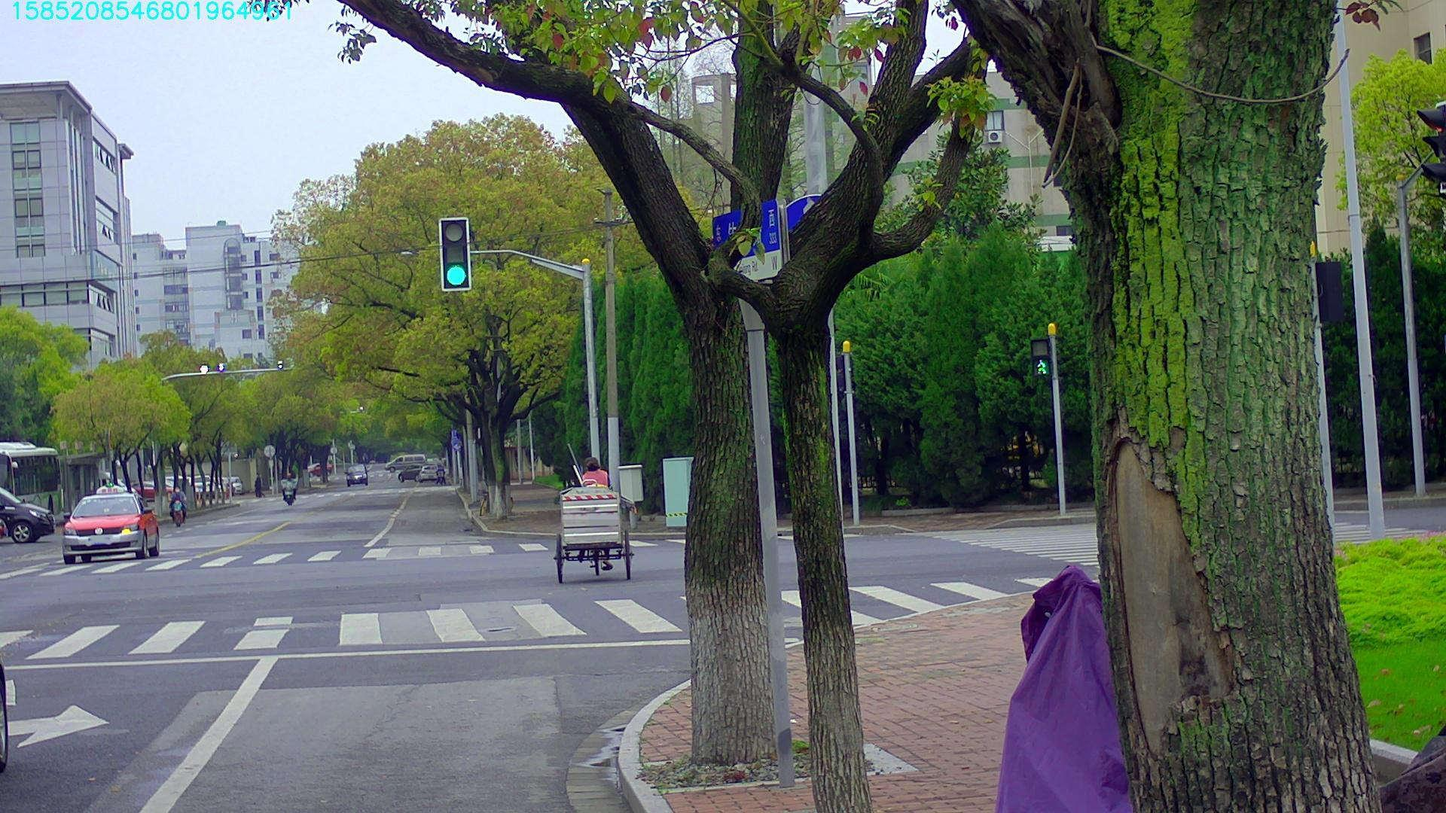green: (440, 218, 469, 288)
